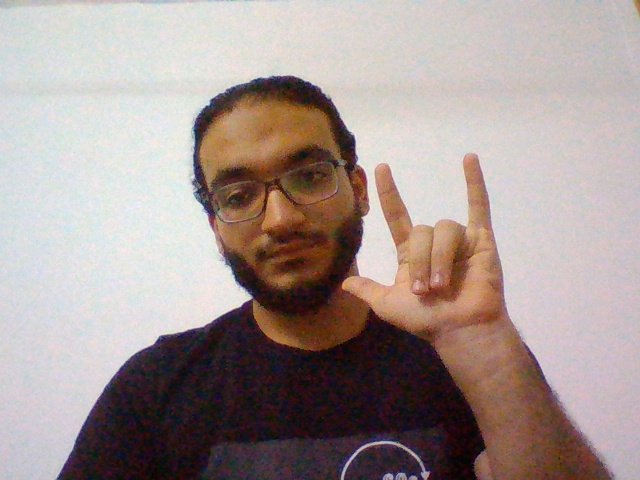I Love Yoy: (337, 155, 523, 354)
